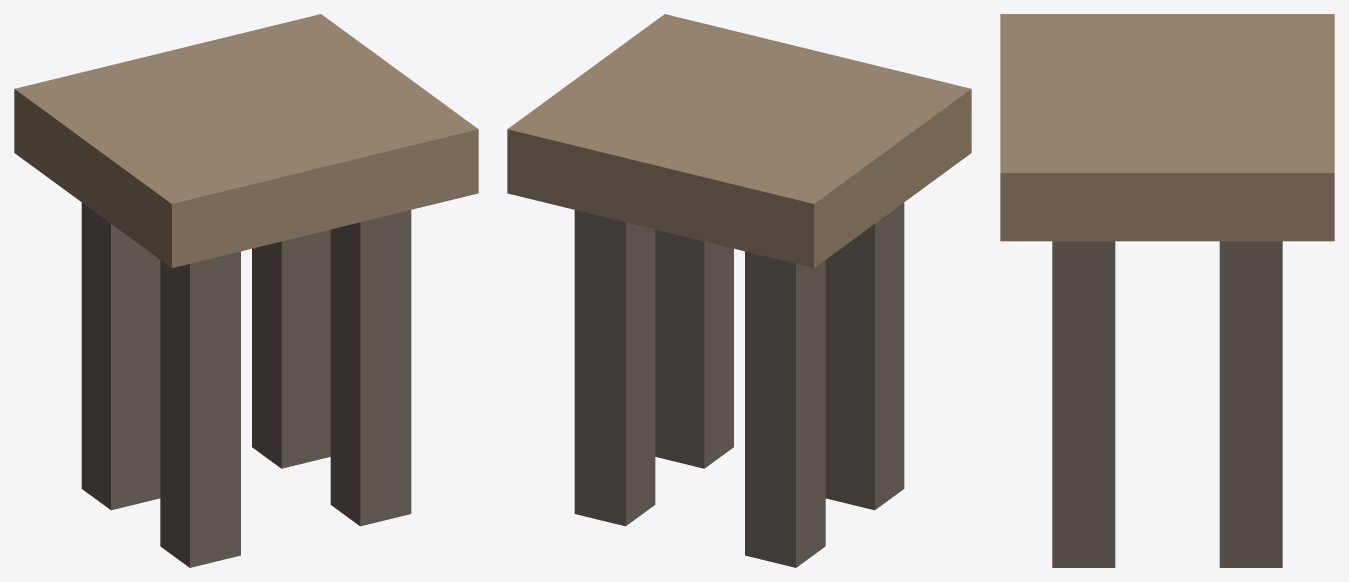
The model's file is side_table.glb.
3 renders of one model, left to right at view 1: azimuth 30°, elevation 25°; view 2: azimuth 150°, elevation 25°; view 3: azimuth 270°, elevation 25°, orthographic. The views are drawn at different scales.
Visible parts, largest first — view 1: body; view 2: body; view 3: body.
Boxes of the visible parts, x1,y1,x2,y2 form: body: [14, 14, 478, 567]; body: [507, 14, 971, 567]; body: [1000, 14, 1334, 567].
Size of the model in its own units: 0.45 by 0.55 by 0.4.
